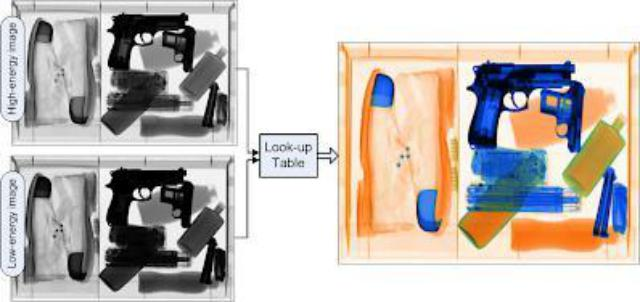Gun: (464, 56, 576, 145), (99, 161, 189, 224), (101, 8, 190, 68)
